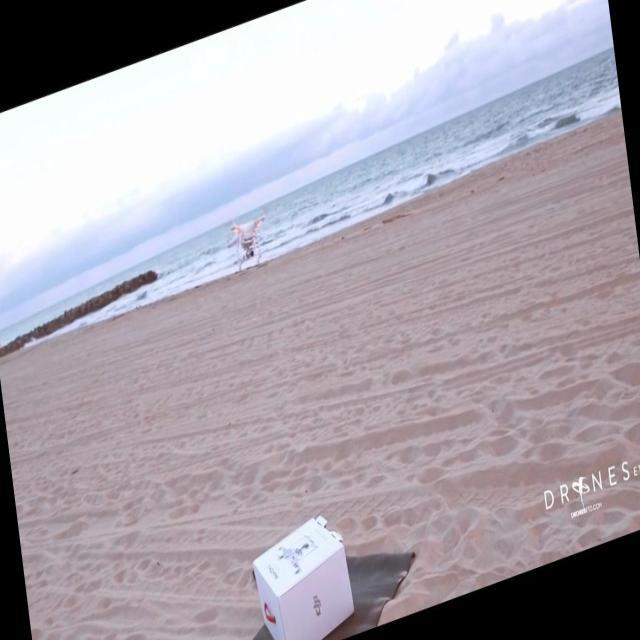drone: (226, 202, 268, 270)
